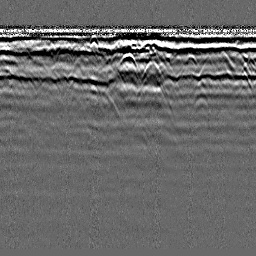cavity: (117, 52, 138, 68)
